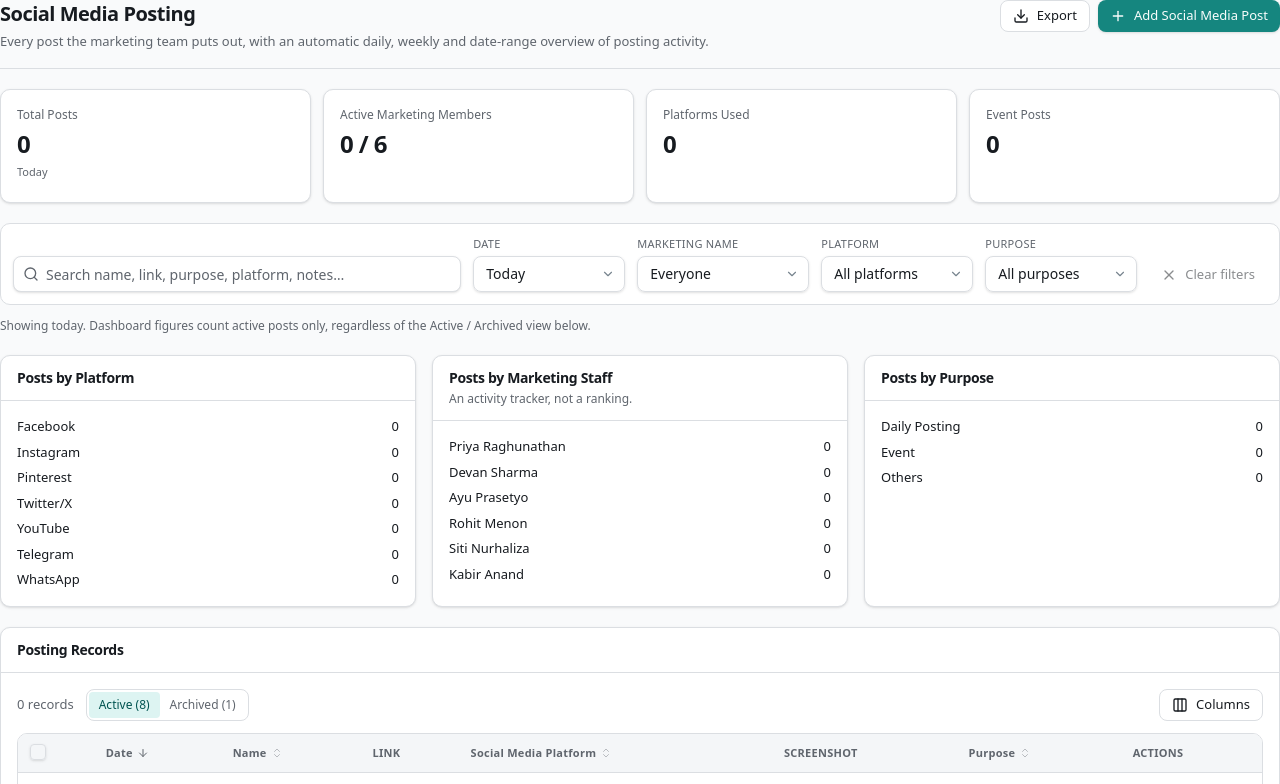
Social Media Posting — dashboard and date filtering › a Custom Date matching the fixtures shows exactly that day’s posts
Select "Custom Date" in the dropdown labelled "Date" at {"x": 549, "y": 274}, box left=473, top=256, right=625, bottom=292
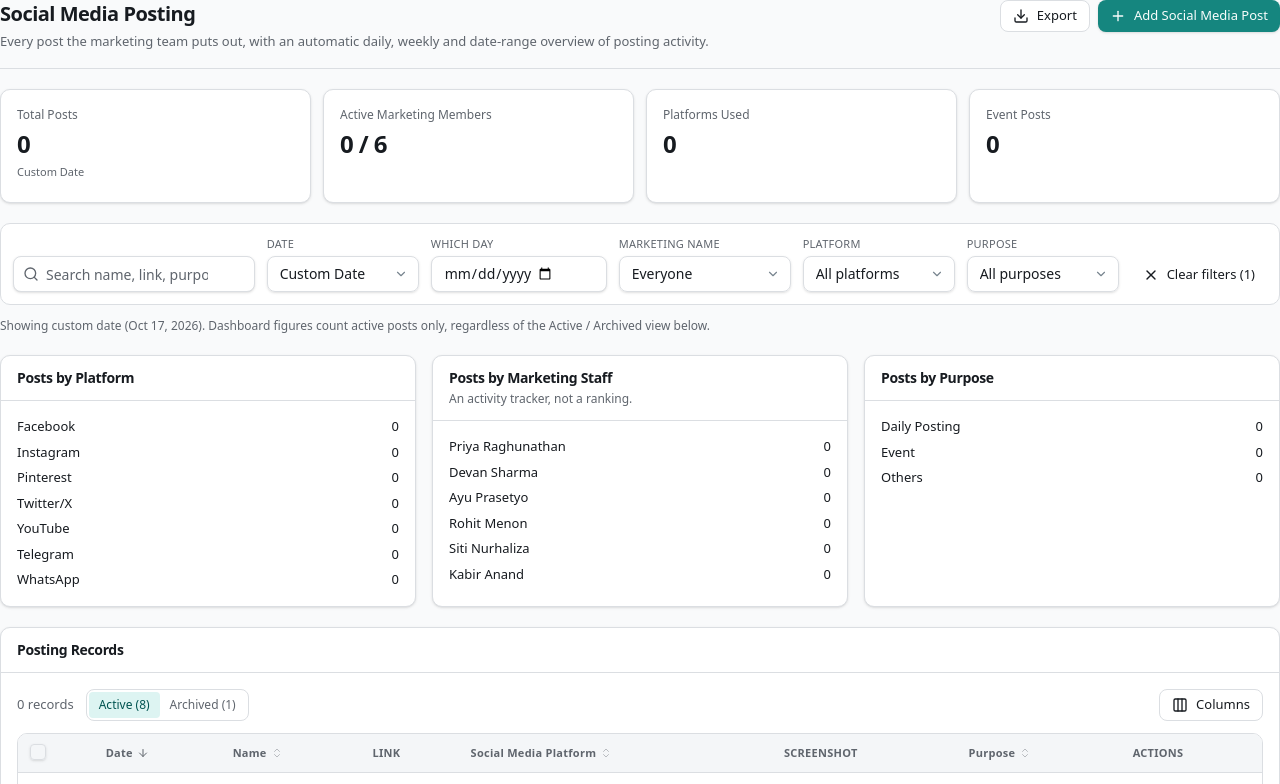
Type "2026-09-12" into the date field labelled "Which day" at {"x": 519, "y": 274}, box left=431, top=256, right=607, bottom=292
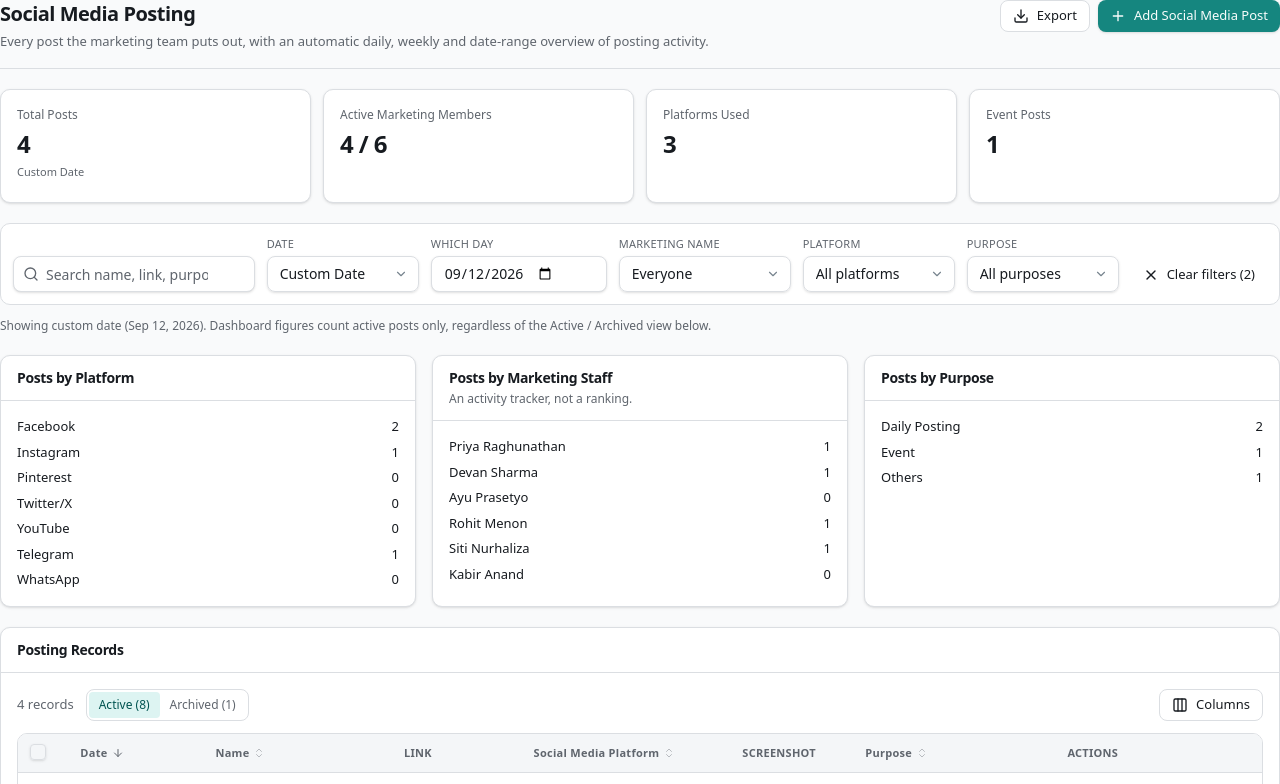
Expected: the number of links "View Post" is 4
